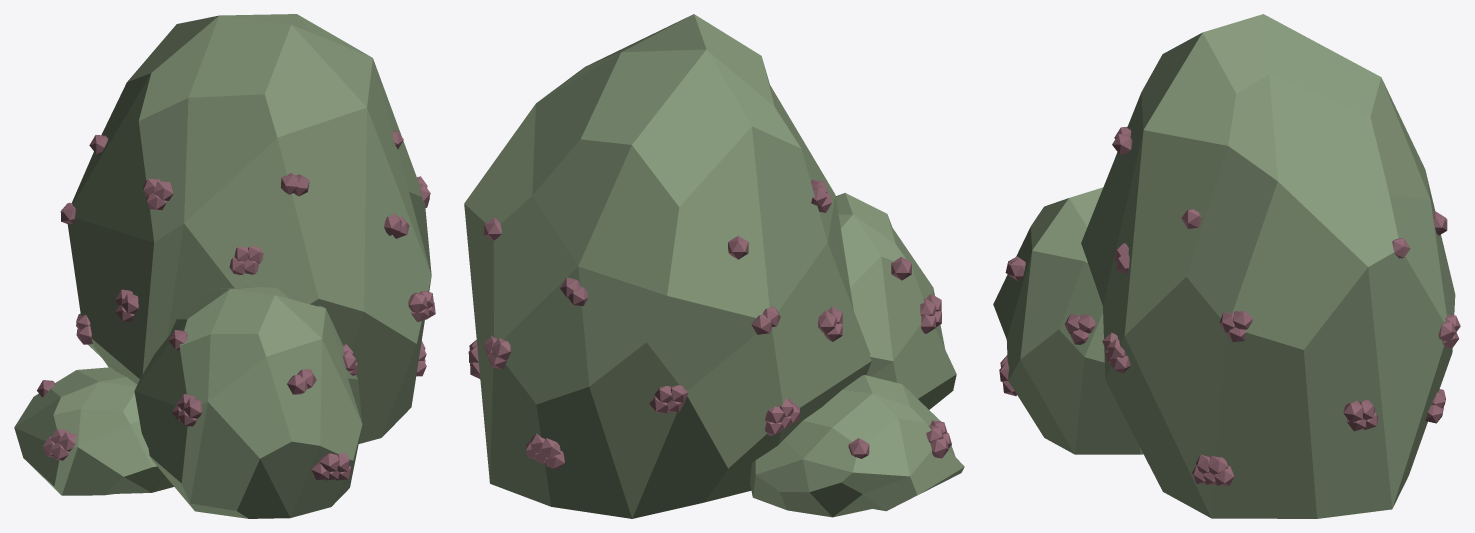
Rendered from BerryBush5.fbx.
3 renders of one model, left to right at view 1: azimuth 30°, elevation 25°; view 2: azimuth 150°, elevation 25°; view 3: azimuth 270°, elevation 25°, orthographic. The views are drawn at different scales.
Visible parts, largest first — view 1: Berry_Tall_bush1; view 2: Berry_Tall_bush1; view 3: Berry_Tall_bush1.
Part boxes in pixels (bbox=[...]): Berry_Tall_bush1: bbox=[14, 14, 435, 518]; Berry_Tall_bush1: bbox=[464, 14, 964, 518]; Berry_Tall_bush1: bbox=[993, 14, 1460, 518].
Size of the model in its own units: 9.28 by 8.88 by 8.87.
